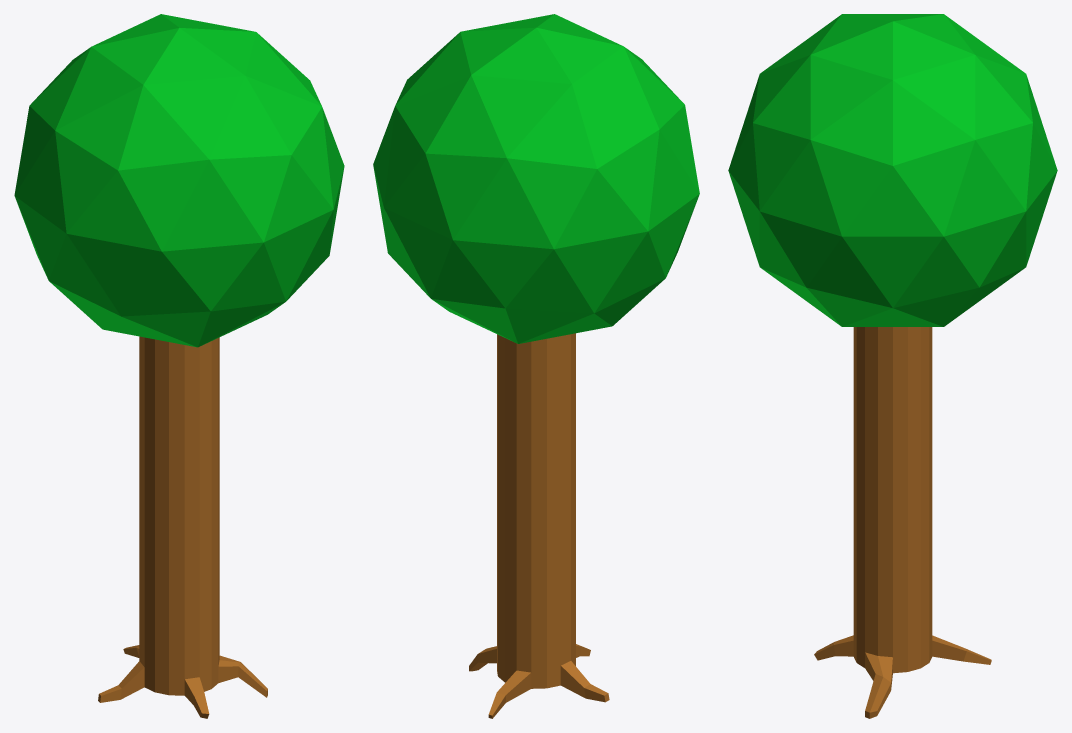
Rendered from Tree.fbx.
The picture shows the model from 3 angles, left to right: view 1: azimuth 30°, elevation 25°; view 2: azimuth 150°, elevation 25°; view 3: azimuth 270°, elevation 25°; orthographic projection. The views are drawn at different scales.
Visible parts, largest first — view 1: Tree; view 2: Tree; view 3: Tree.
Boxes of the visible parts, x1=… form: Tree: x1=14, y1=14, x2=344, y2=718; Tree: x1=373, y1=14, x2=699, y2=718; Tree: x1=728, y1=14, x2=1057, y2=718.
Bounding box in the file's own units: 358 × 833 × 376.
